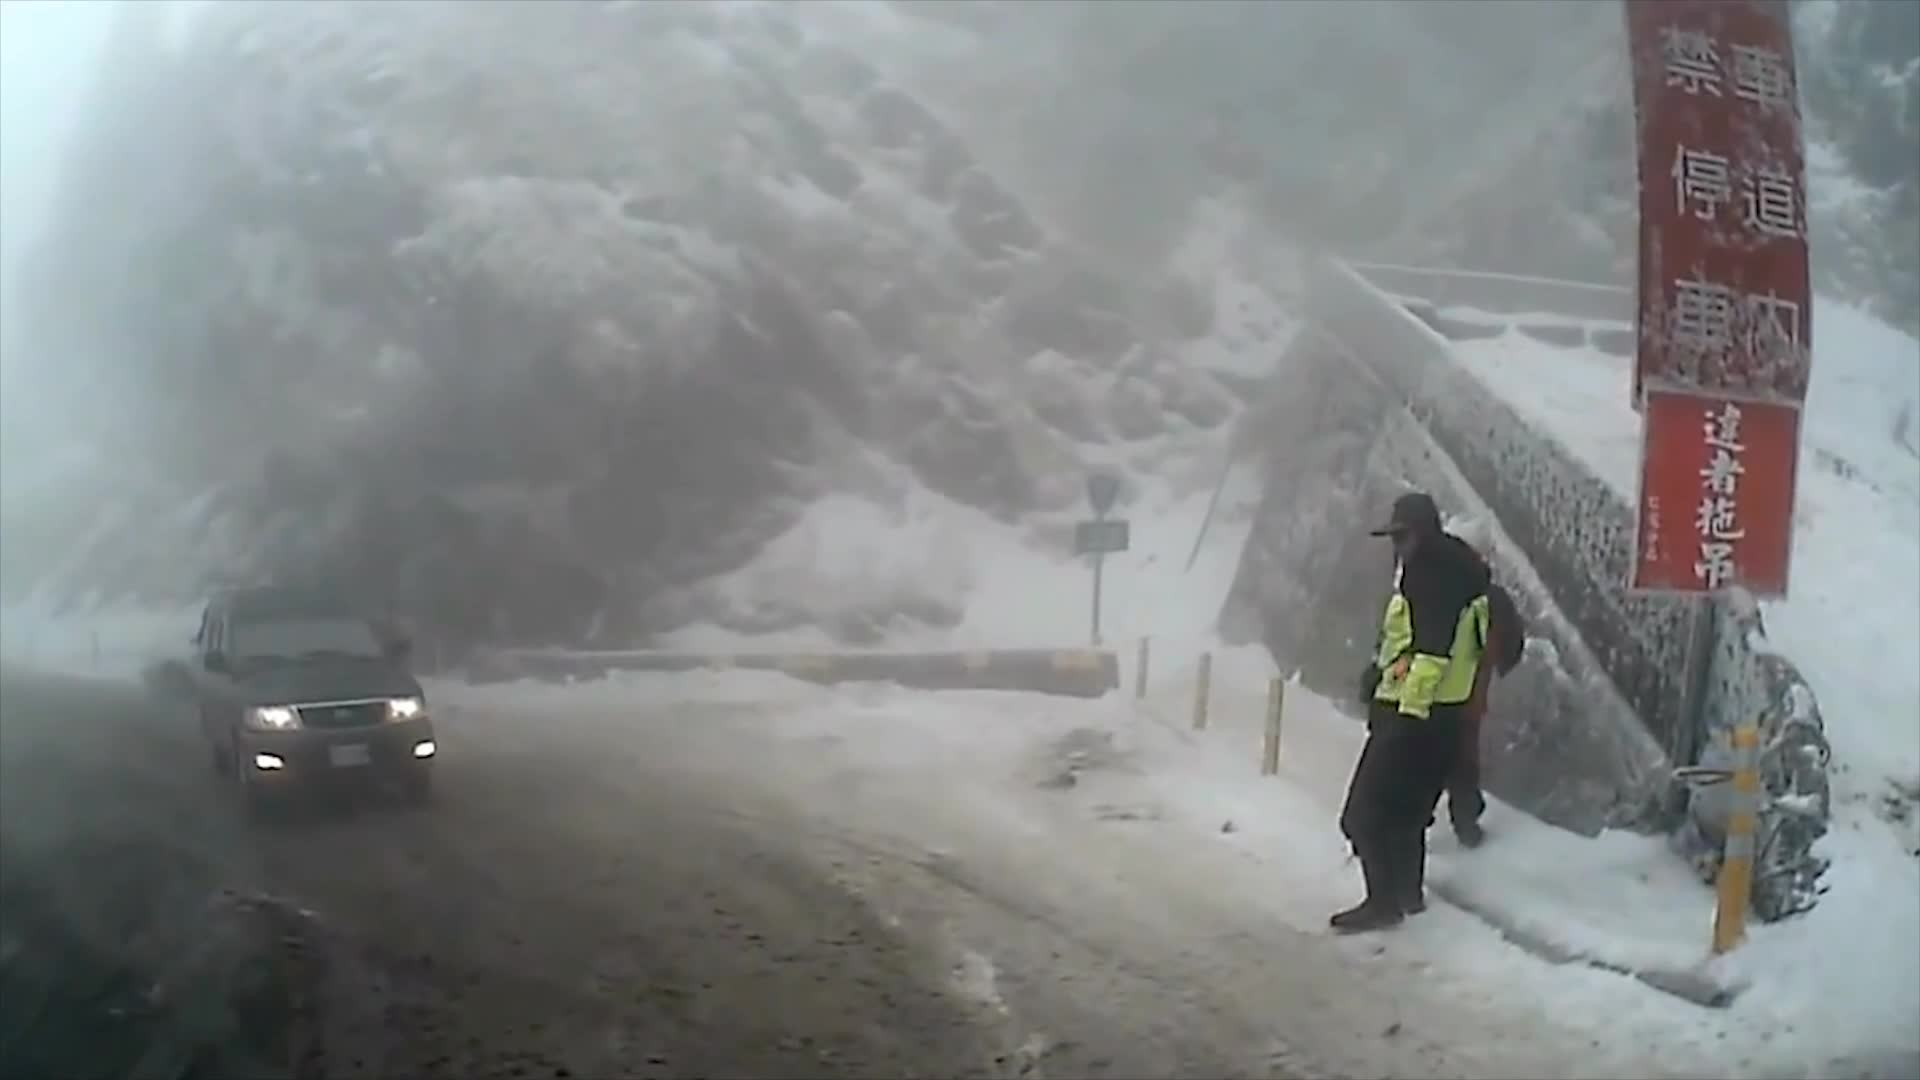pedestrian: (1342, 506, 1510, 952)
vehicle: (192, 586, 438, 822)
